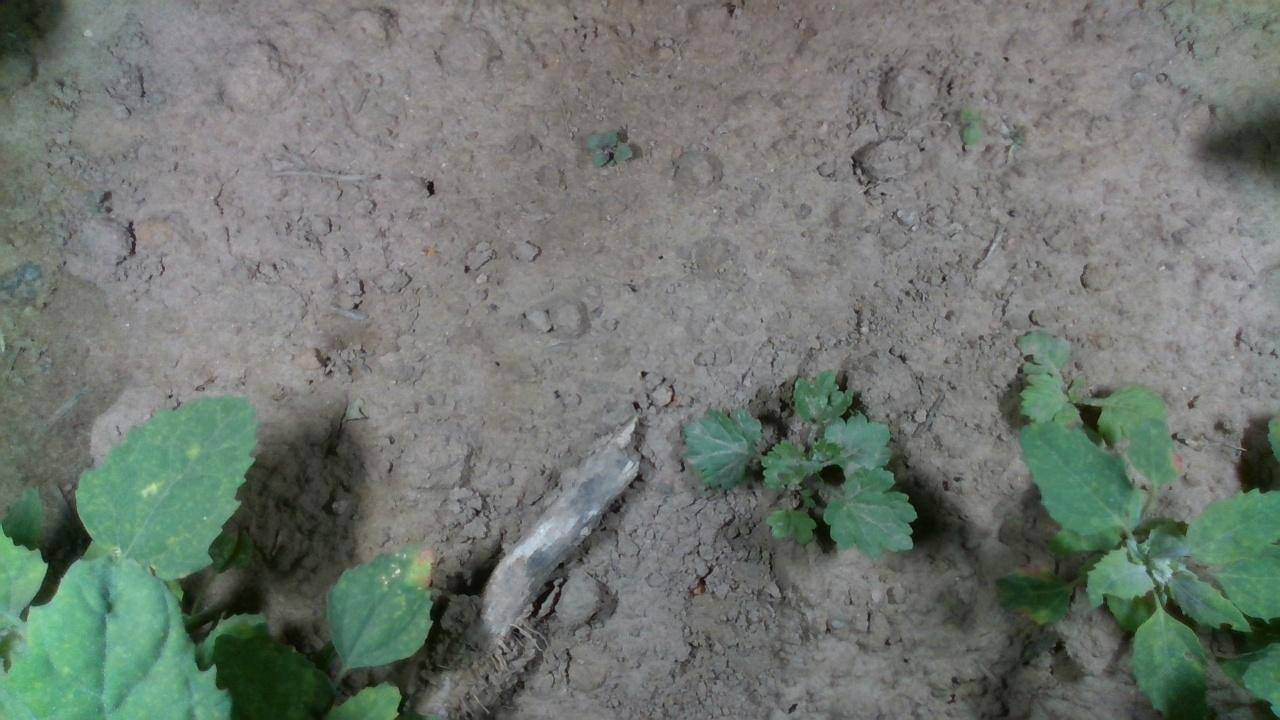weed: (581, 126, 635, 171), (954, 104, 982, 148)
